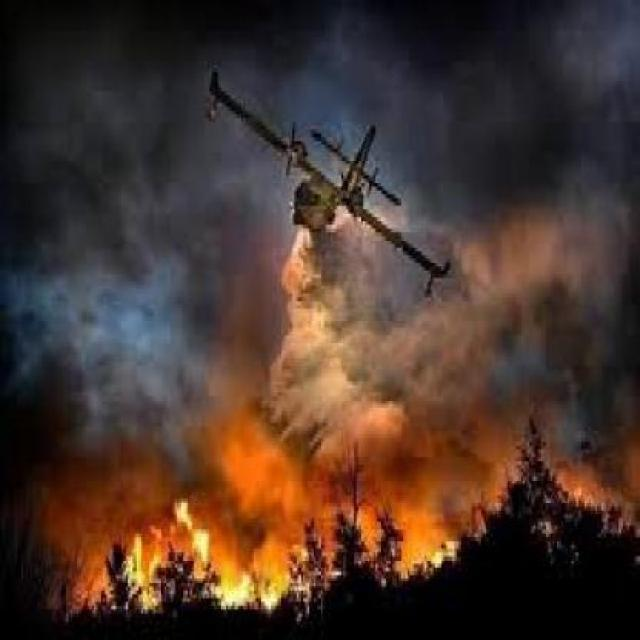Fire: (55, 471, 337, 635), (345, 431, 545, 626)
Smoke: (0, 0, 640, 412)
